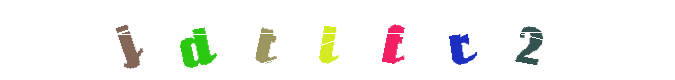2: (490, 0, 570, 80)
D: (165, 0, 245, 80)
F: (353, 0, 433, 80)
J: (156, 0, 236, 80)
L: (299, 0, 379, 80)
R: (419, 0, 499, 80)
T: (287, 0, 367, 80)
